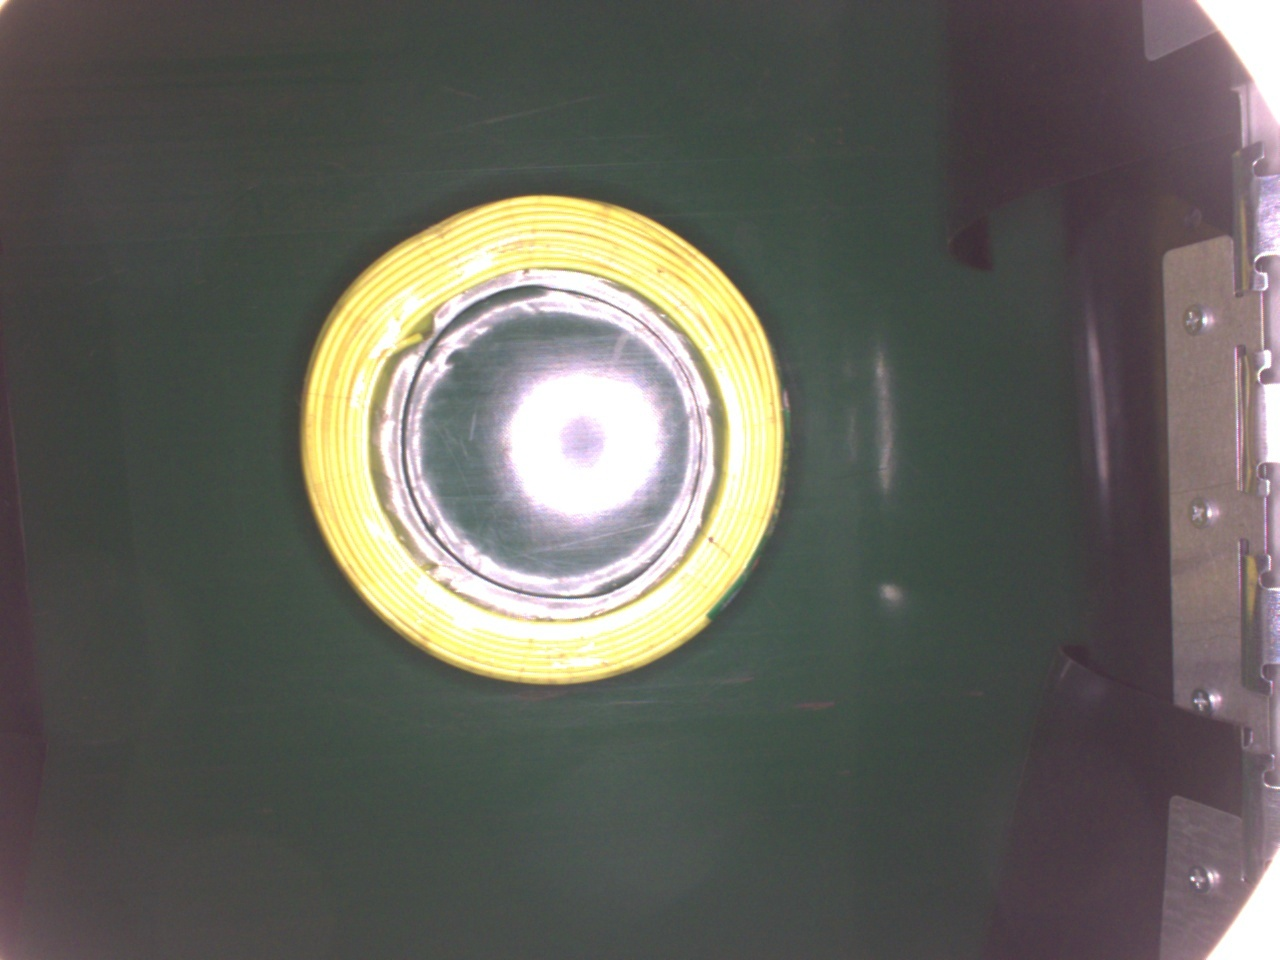yellow: (292, 188, 786, 688)
